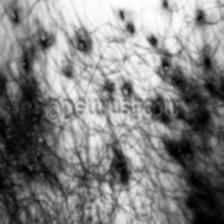Toxin: (112, 156, 136, 190), (174, 130, 192, 159)
